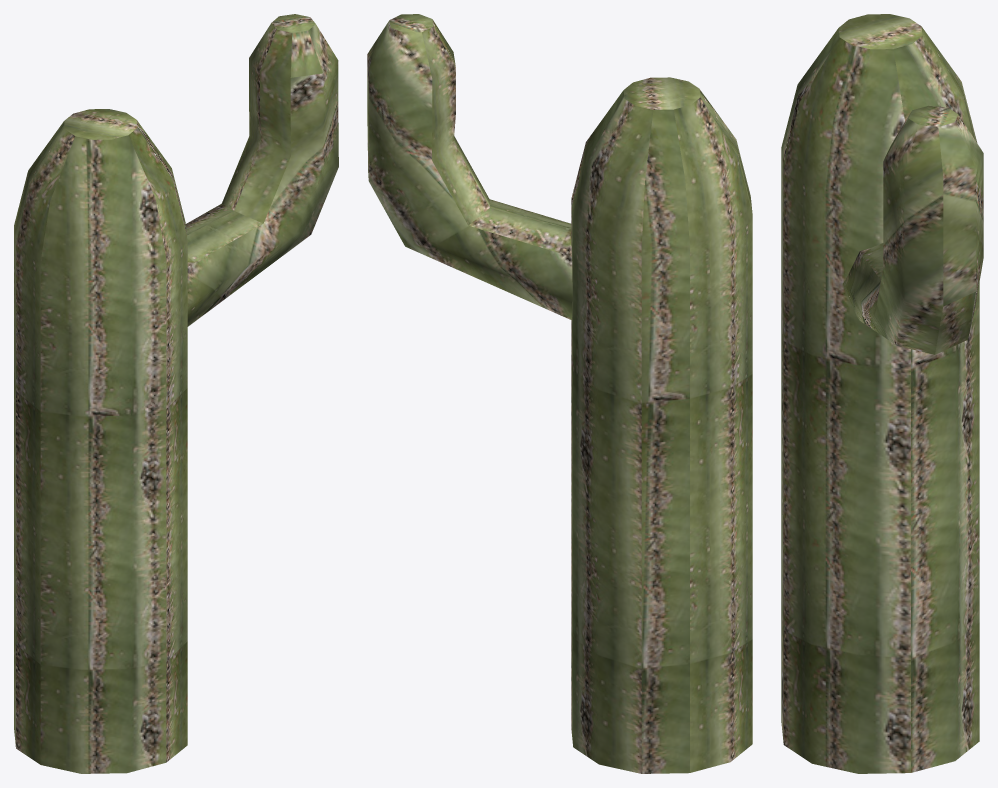
The model's file is cactus_3.obj.
3 views of the same model, side by side, from view 1: azimuth 30°, elevation 25°; view 2: azimuth 150°, elevation 25°; view 3: azimuth 270°, elevation 25° (orthographic). The views are drawn at different scales.
Parts seen in each view (by area): view 1: cactus5; view 2: cactus5; view 3: cactus5.
Boxes of the visible parts, bbox=[...] form: cactus5: bbox=[14, 14, 338, 773]; cactus5: bbox=[367, 14, 752, 773]; cactus5: bbox=[781, 14, 983, 773].
Size of the model in its own units: 1.66 by 3.1 by 0.7717.
1 material, 1 textured.
